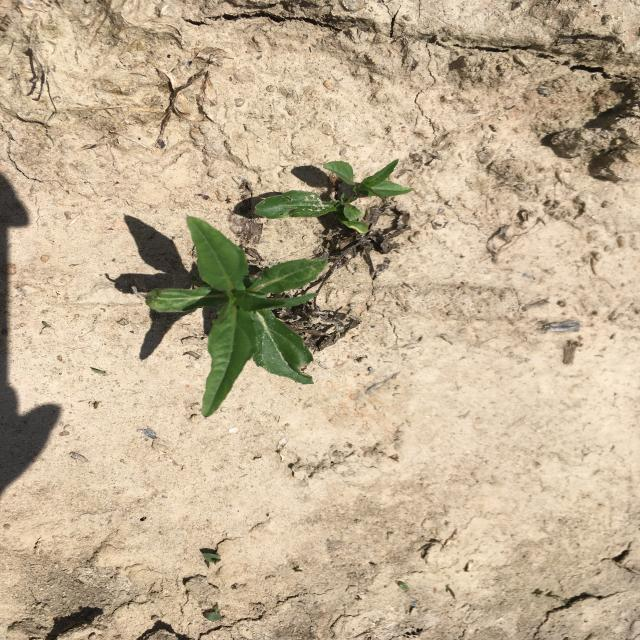Eclipta: (145, 216, 329, 418), (254, 159, 414, 235)
